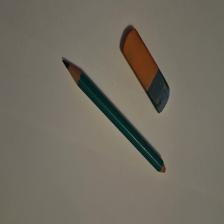eraser: (121, 29, 171, 115)
pencil: (63, 60, 167, 175)
